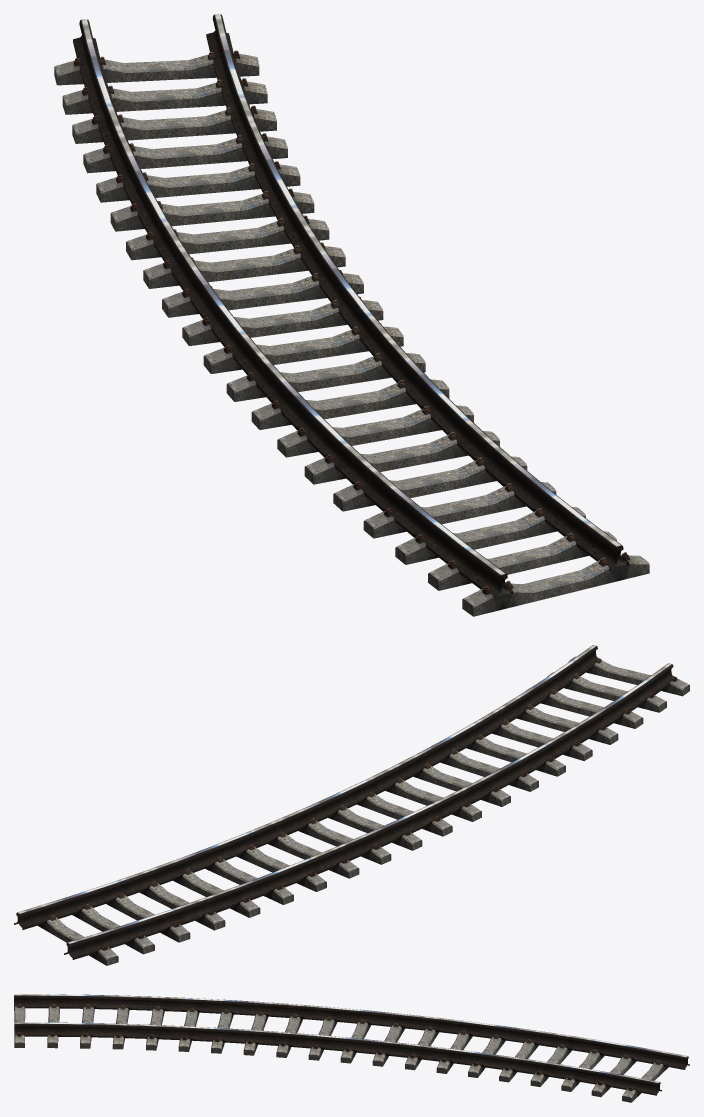
Rendered from Beton_rail_-25.FBX.
3 renders of one model, top to bottom at view 1: azimuth 30°, elevation 25°; view 2: azimuth 150°, elevation 25°; view 3: azimuth 270°, elevation 25°, orthographic. The views are drawn at different scales.
Visible parts, largest first — view 1: Beton_rail_-25_LOD0; view 2: Beton_rail_-25_LOD0; view 3: Beton_rail_-25_LOD0.
Boxes of the visible parts, left/top/right/bottom form: Beton_rail_-25_LOD0: left=54, top=14, right=649, bottom=616; Beton_rail_-25_LOD0: left=14, top=645, right=689, bottom=965; Beton_rail_-25_LOD0: left=14, top=994, right=689, bottom=1102.
Size of what is drawn, in the model's own units: 5.73 by 16.73 by 0.4774.
